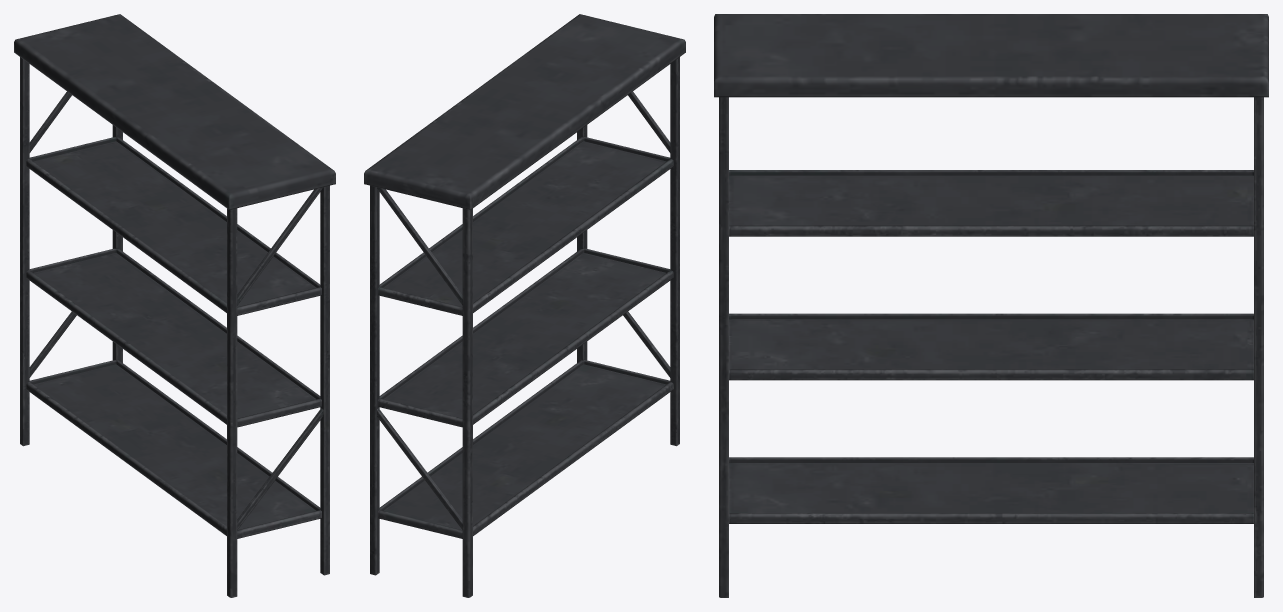
File: scene-shop-shelf.glb
3 views of the same model, side by side, from view 1: azimuth 30°, elevation 25°; view 2: azimuth 150°, elevation 25°; view 3: azimuth 270°, elevation 25° (orthographic). The views are drawn at different scales.
Visible parts, largest first — view 1: base; view 2: base; view 3: base.
Boxes of the visible parts, <box> form: base: <box>14,14,335,597</box>; base: <box>364,14,685,597</box>; base: <box>714,14,1268,597</box>.
Bounding box in the file's own units: 0.5516 × 2 × 1.93.
1 material, 1 textured.
